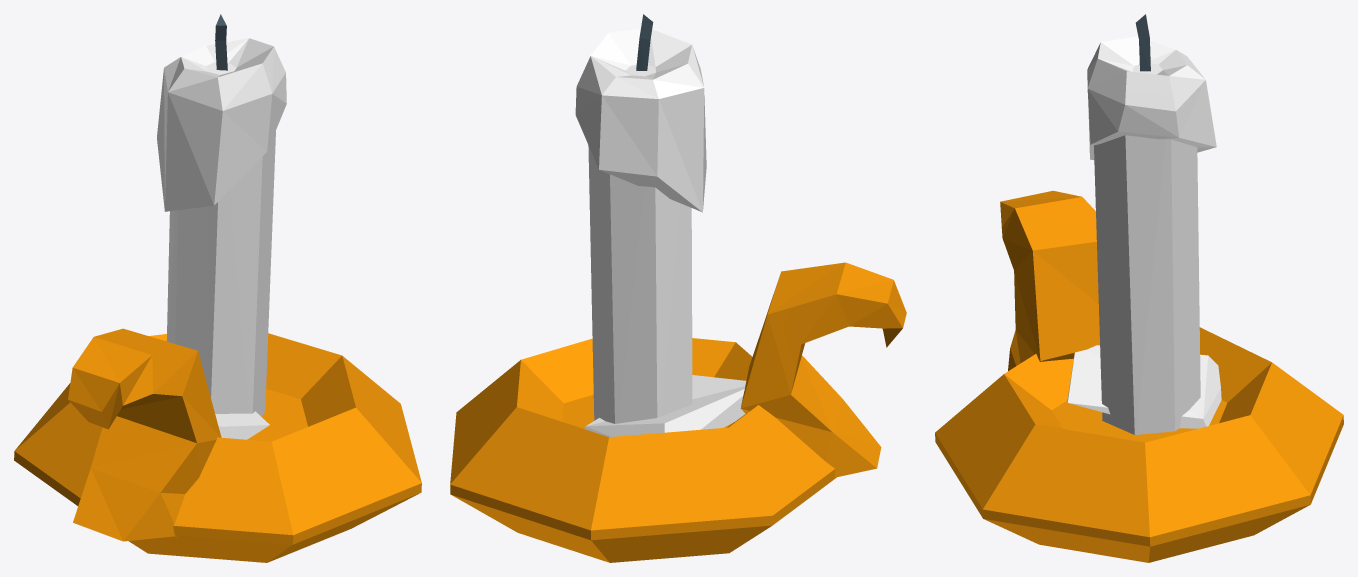
The model's file is candle off.glb.
3 views of the same model, side by side, from view 1: azimuth 30°, elevation 25°; view 2: azimuth 150°, elevation 25°; view 3: azimuth 270°, elevation 25° (orthographic).
Parts seen in each view (by area): view 1: Candle; view 2: Candle; view 3: Candle.
Boxes of the visible parts, <box> form: Candle: <box>14,14,421,562</box>; Candle: <box>450,14,906,562</box>; Candle: <box>935,14,1343,562</box>.
Size of the model in its own units: 0.0658 by 0.0804 by 0.0604.
